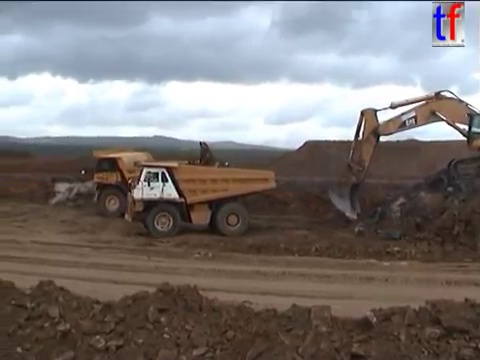truck: (326, 88, 480, 221), (123, 157, 277, 238), (80, 146, 226, 219)
worker: (221, 159, 232, 180)
